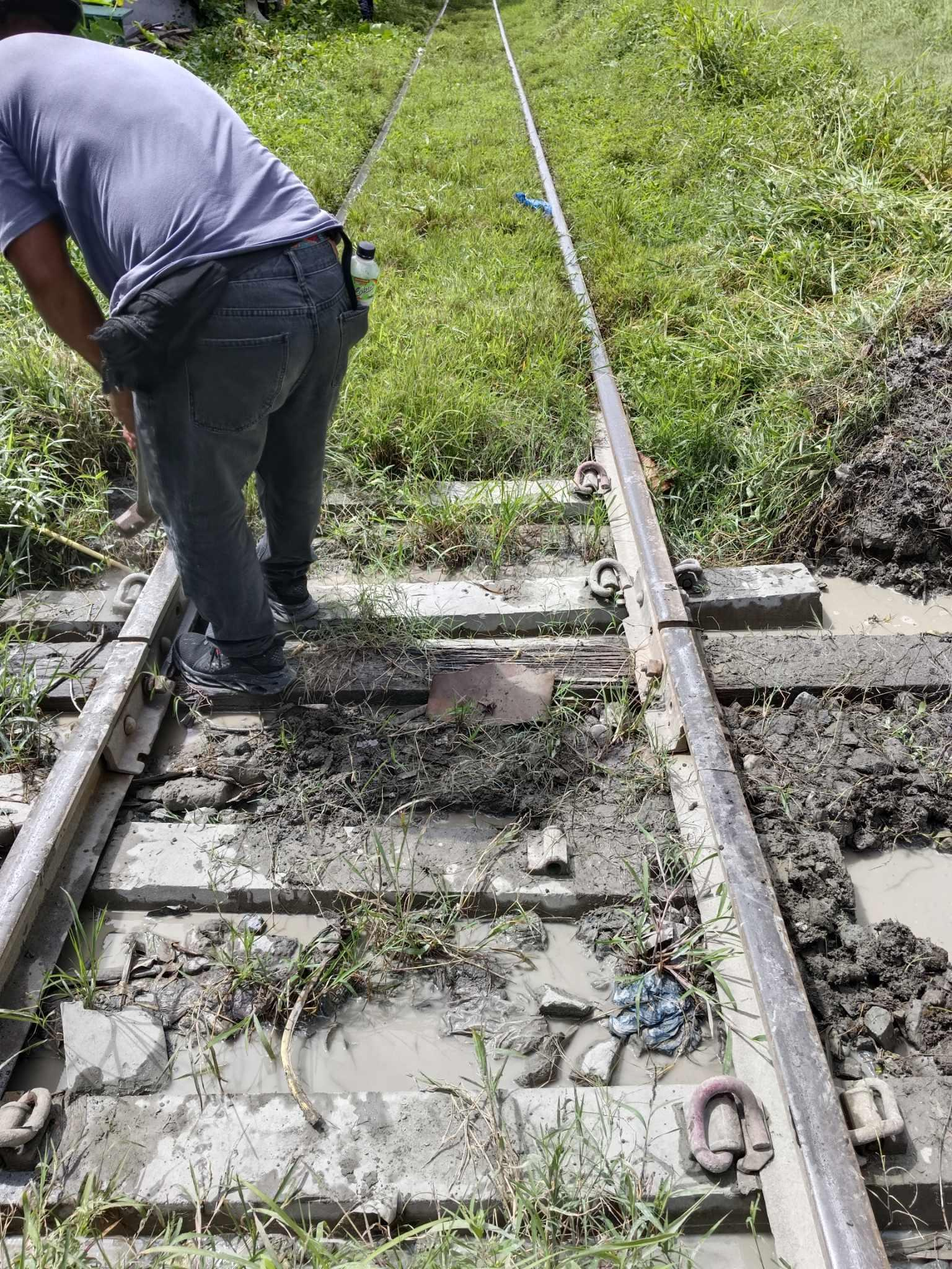railway-gap: (82, 589, 185, 688), (621, 579, 729, 668)
